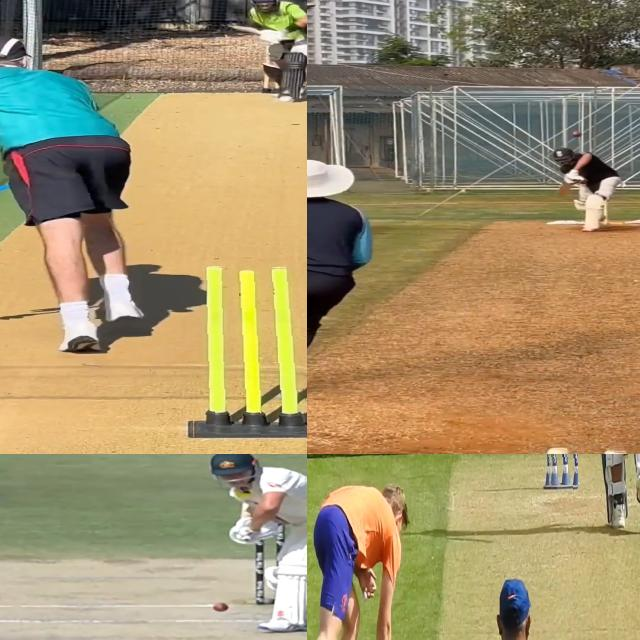Cricket ball: (212, 602, 230, 613), (277, 95, 294, 105), (571, 131, 583, 137)
Stumps: (186, 265, 307, 437), (544, 454, 578, 491)
